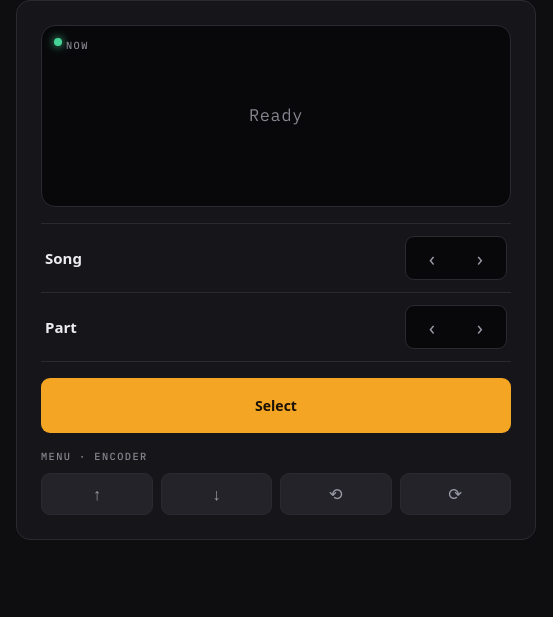
Control surface › shows an error when a request rejects
Click the button "Select" at coordinates (276, 406), box [41,378,511,433]
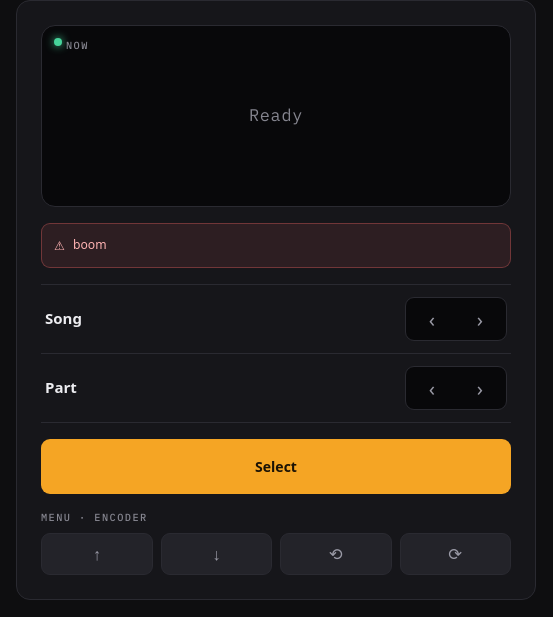
Expected: the text "boom" is shown, [73,236,106,254]
